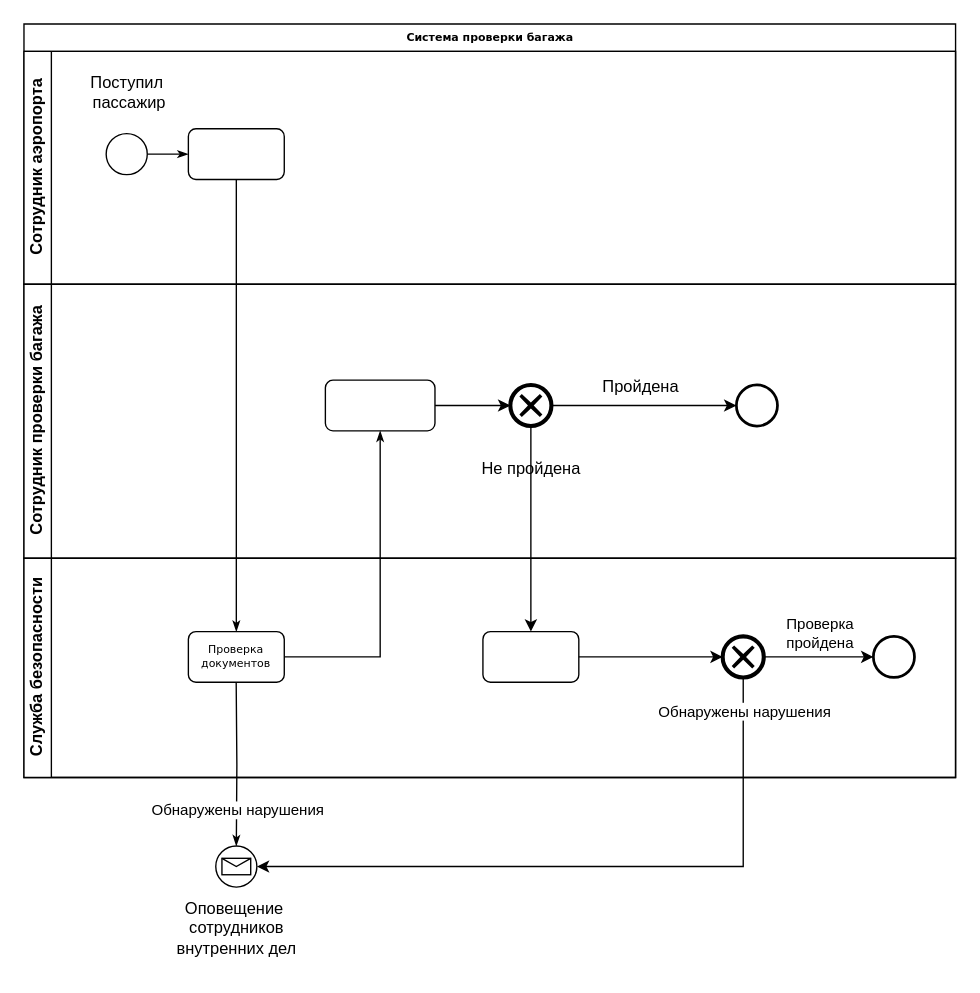
This 980x993 diagram has some shape labels left out. Each missing label, with the centre of its shape:
"Дополнительная проверка багажа" belongs at [530,656].
"Проверка багажа" belongs at [379,405].
"Проверка билета" belongs at [235,153].
